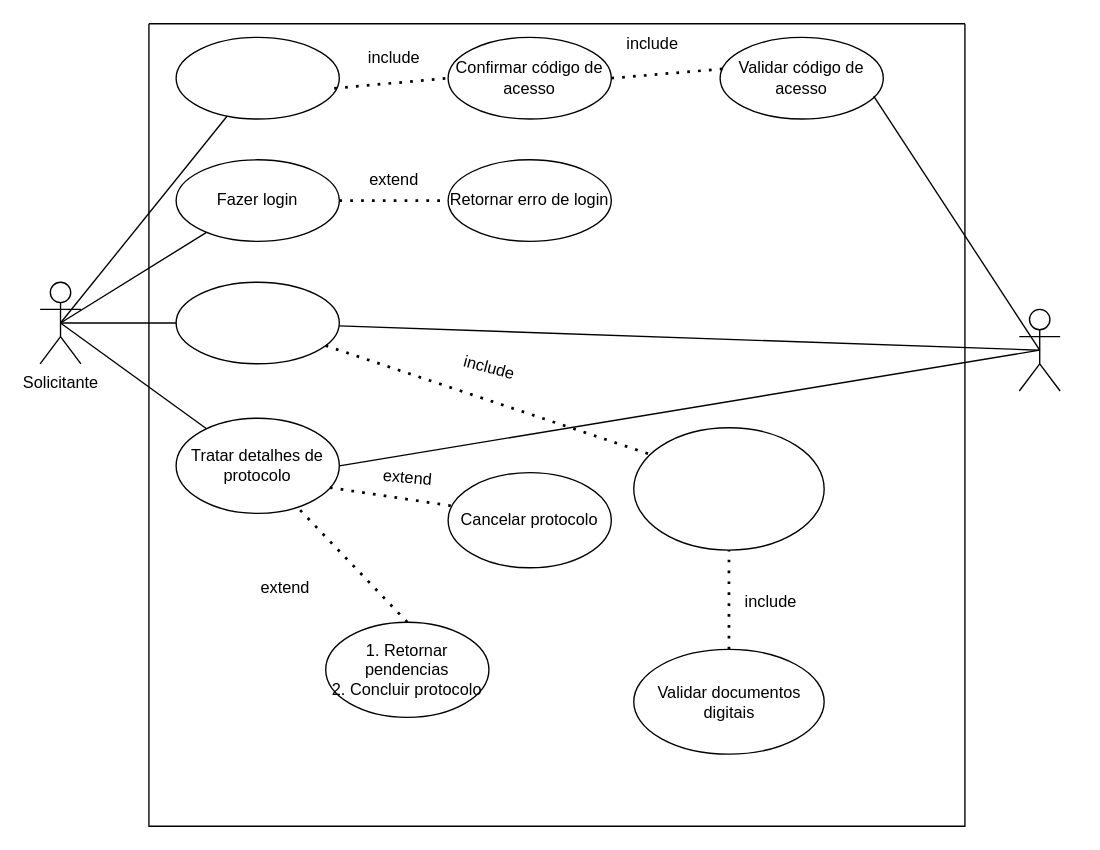
The diagram is 1100 pixels wide and 850 high, and some of its shapes have lost their labels. The shapes that lost their labels are listed below. From the top down, each one's centre as x and y in pixels, then its label:
At [257,77]: "Registrar Usuário".
At [257,322]: "Gerar protocolo".
At [1039,349]: "Atendente".
At [728,488]: "1. Selecionar departamento 2. Selecionar serviço 3. Incluir documentos digitais".
